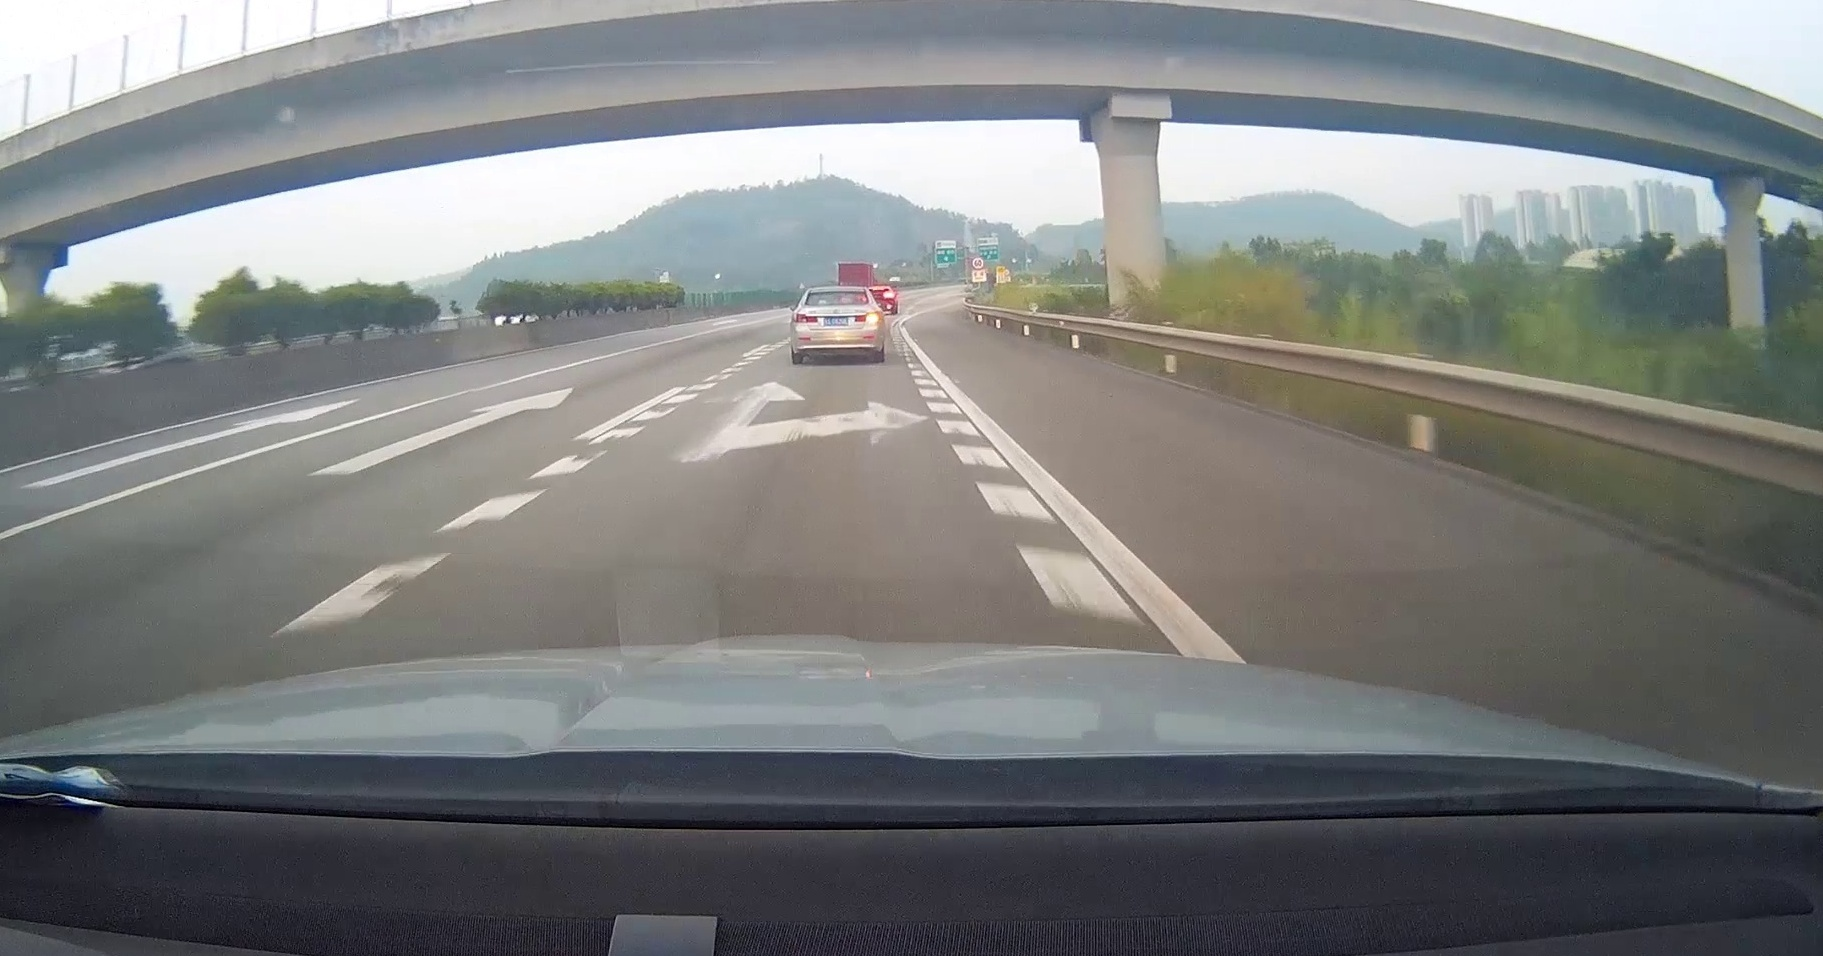L_light: (792, 313, 817, 323)
R_light: (854, 312, 883, 322)
T_light: (830, 303, 845, 305)
day-right: (790, 286, 885, 365)
